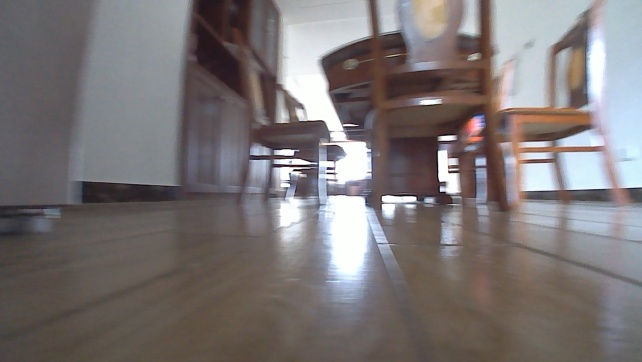dining_table: (225, 0, 635, 214)
